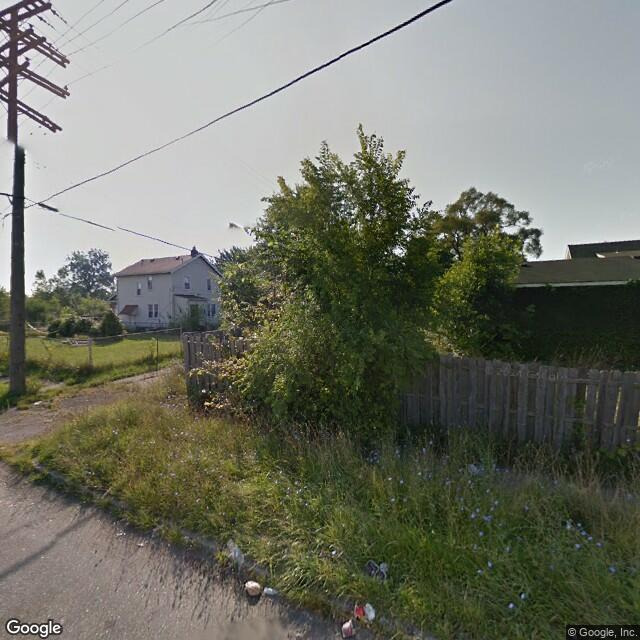litter: (364, 555, 393, 587), (352, 597, 376, 619), (224, 539, 243, 566), (242, 579, 264, 596), (340, 624, 361, 635), (135, 541, 152, 554), (34, 398, 42, 407)
